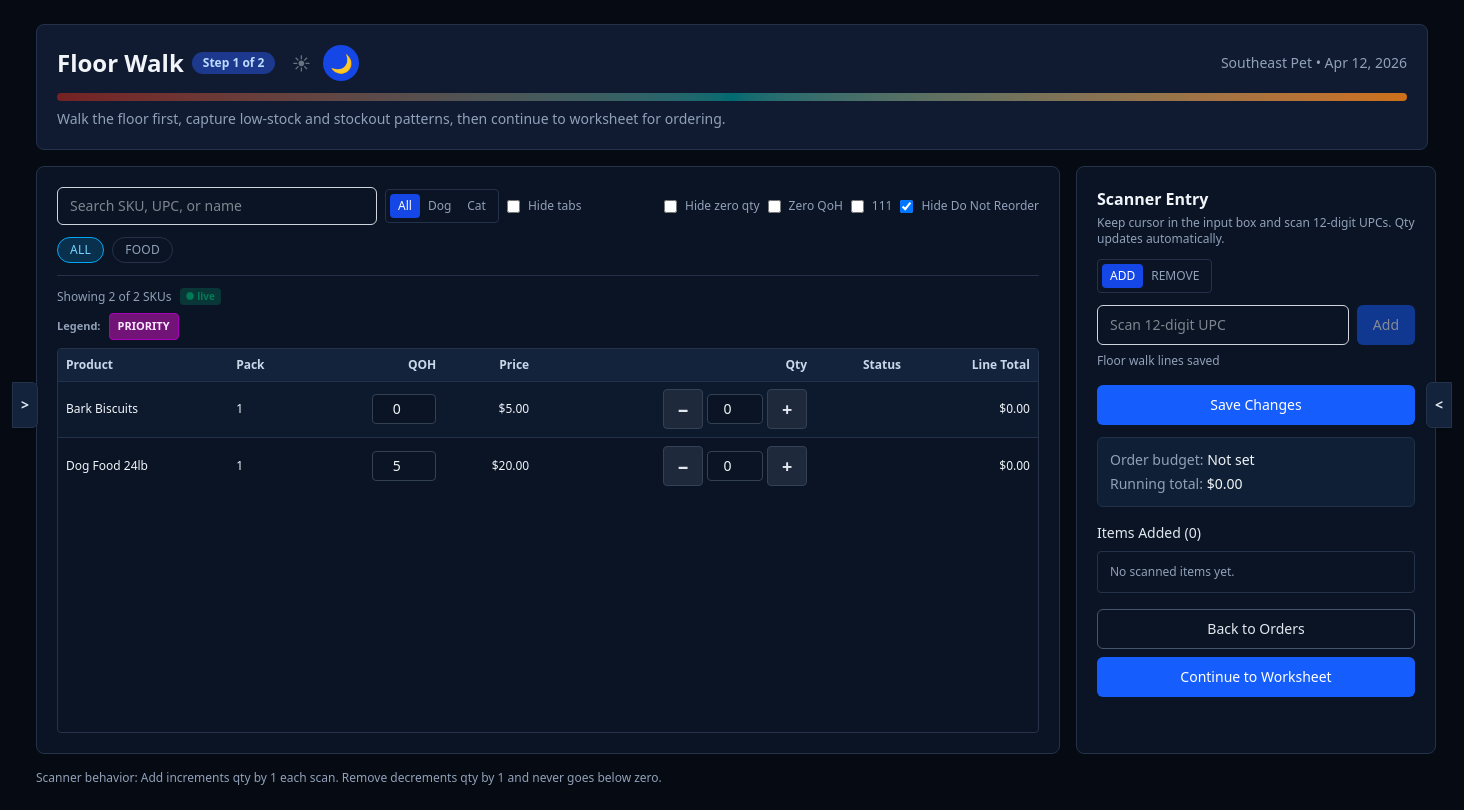
Test: Floor Walk Search & Qty Controls › decrement - button decreases qty
Expected: the text "Bark Biscuits" is shown, [58, 381, 228, 437]
# First increment to 1 so we have something to decrement
Click the button named "increase sku-001" at (787, 409), box [767, 389, 807, 429]
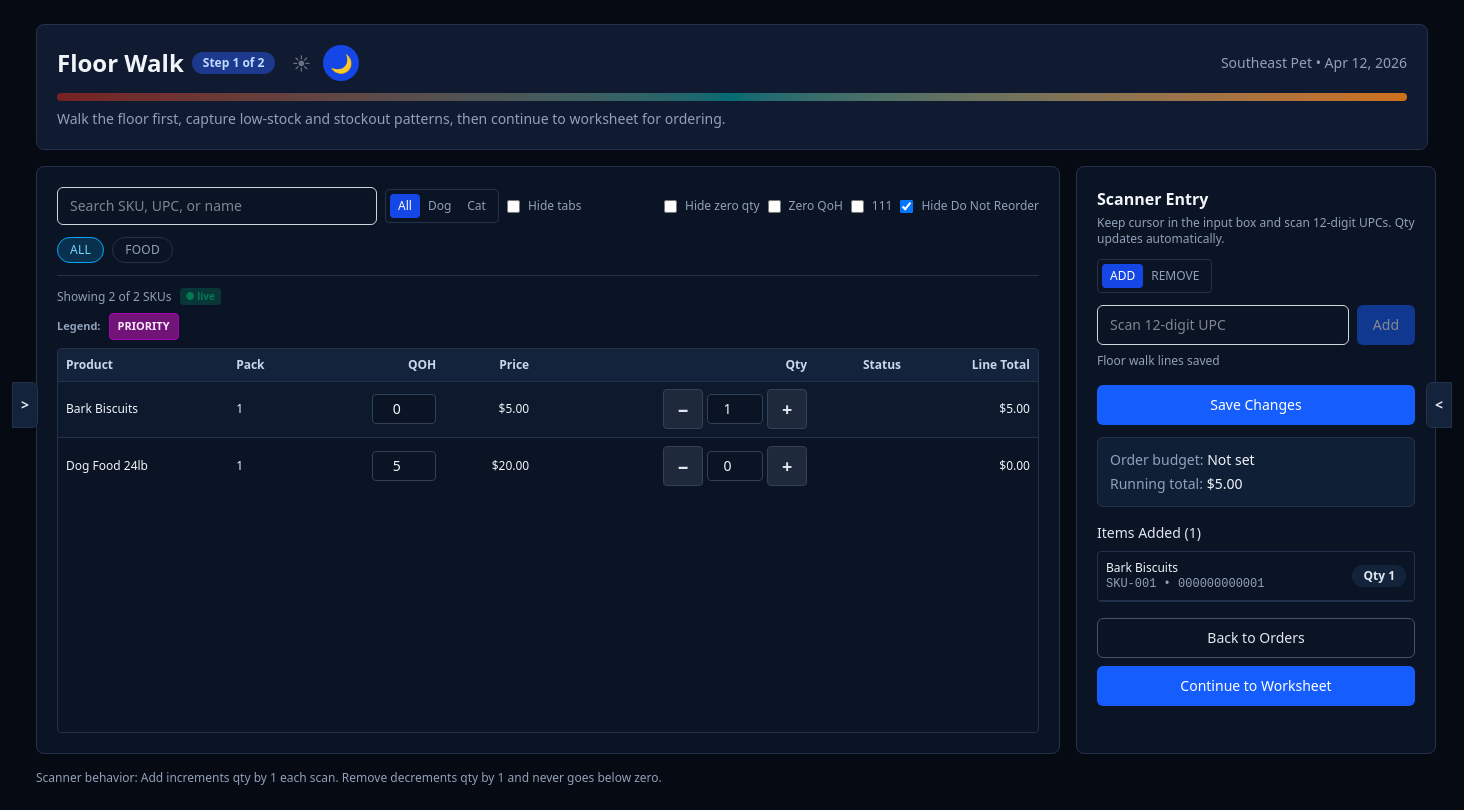
Click the button named "decrease sku-001" at (683, 409), box [663, 389, 703, 429]
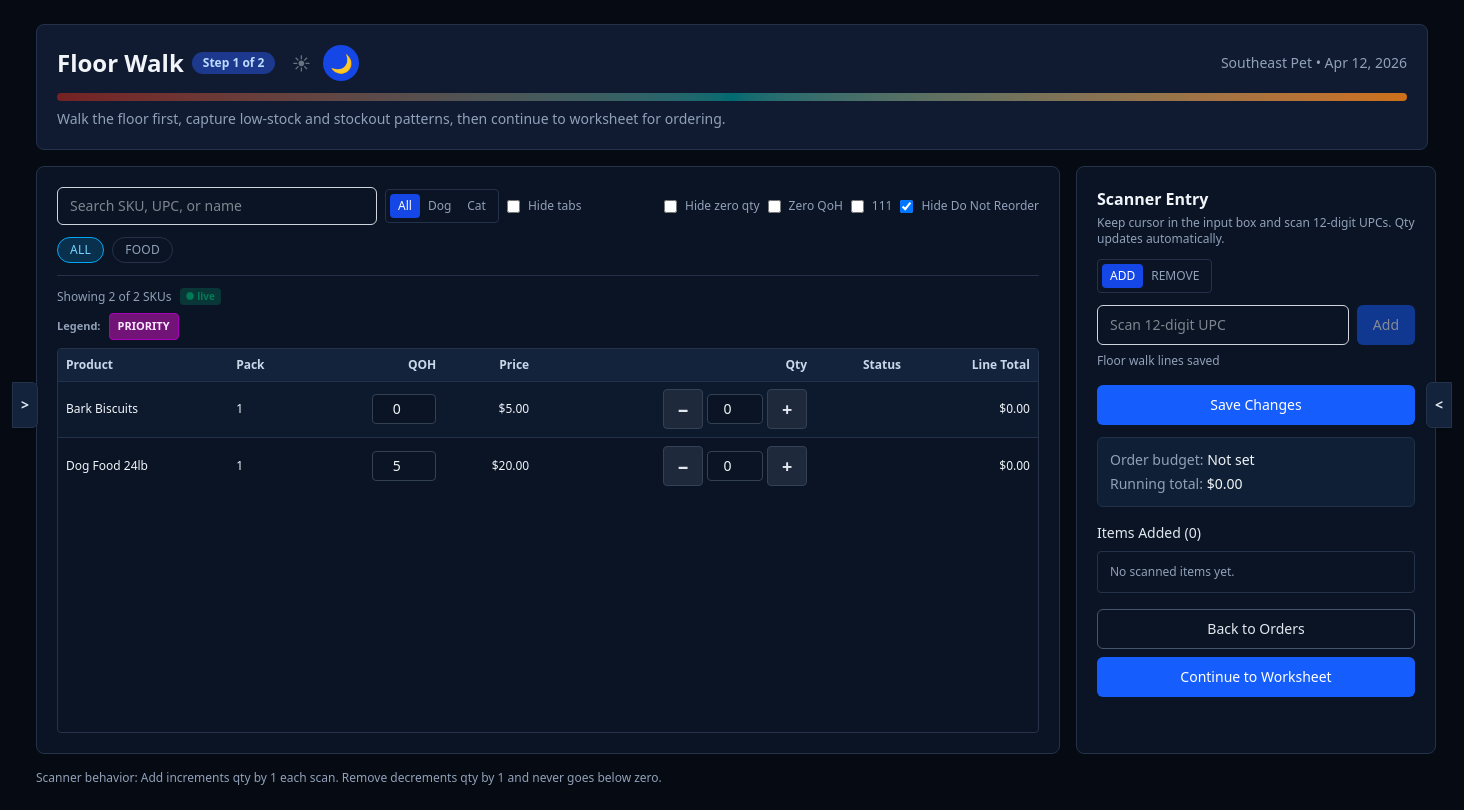
Expected: the number field in the row of "Bark Biscuits" holds "0", [707, 394, 763, 424]
